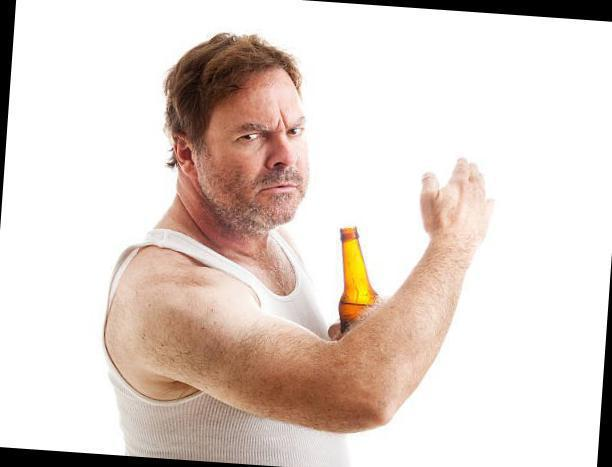Drunk: (215, 88, 310, 216)
